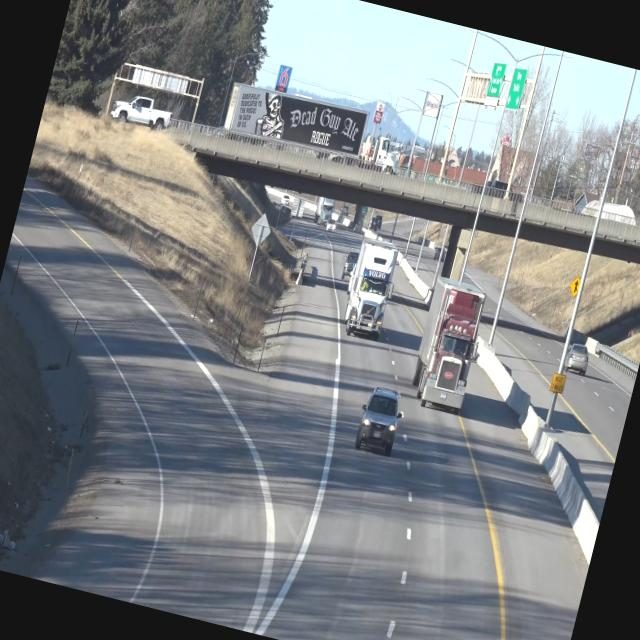Vehicle: (403, 274, 492, 414), (338, 234, 406, 342), (353, 383, 408, 457), (556, 337, 594, 382)
